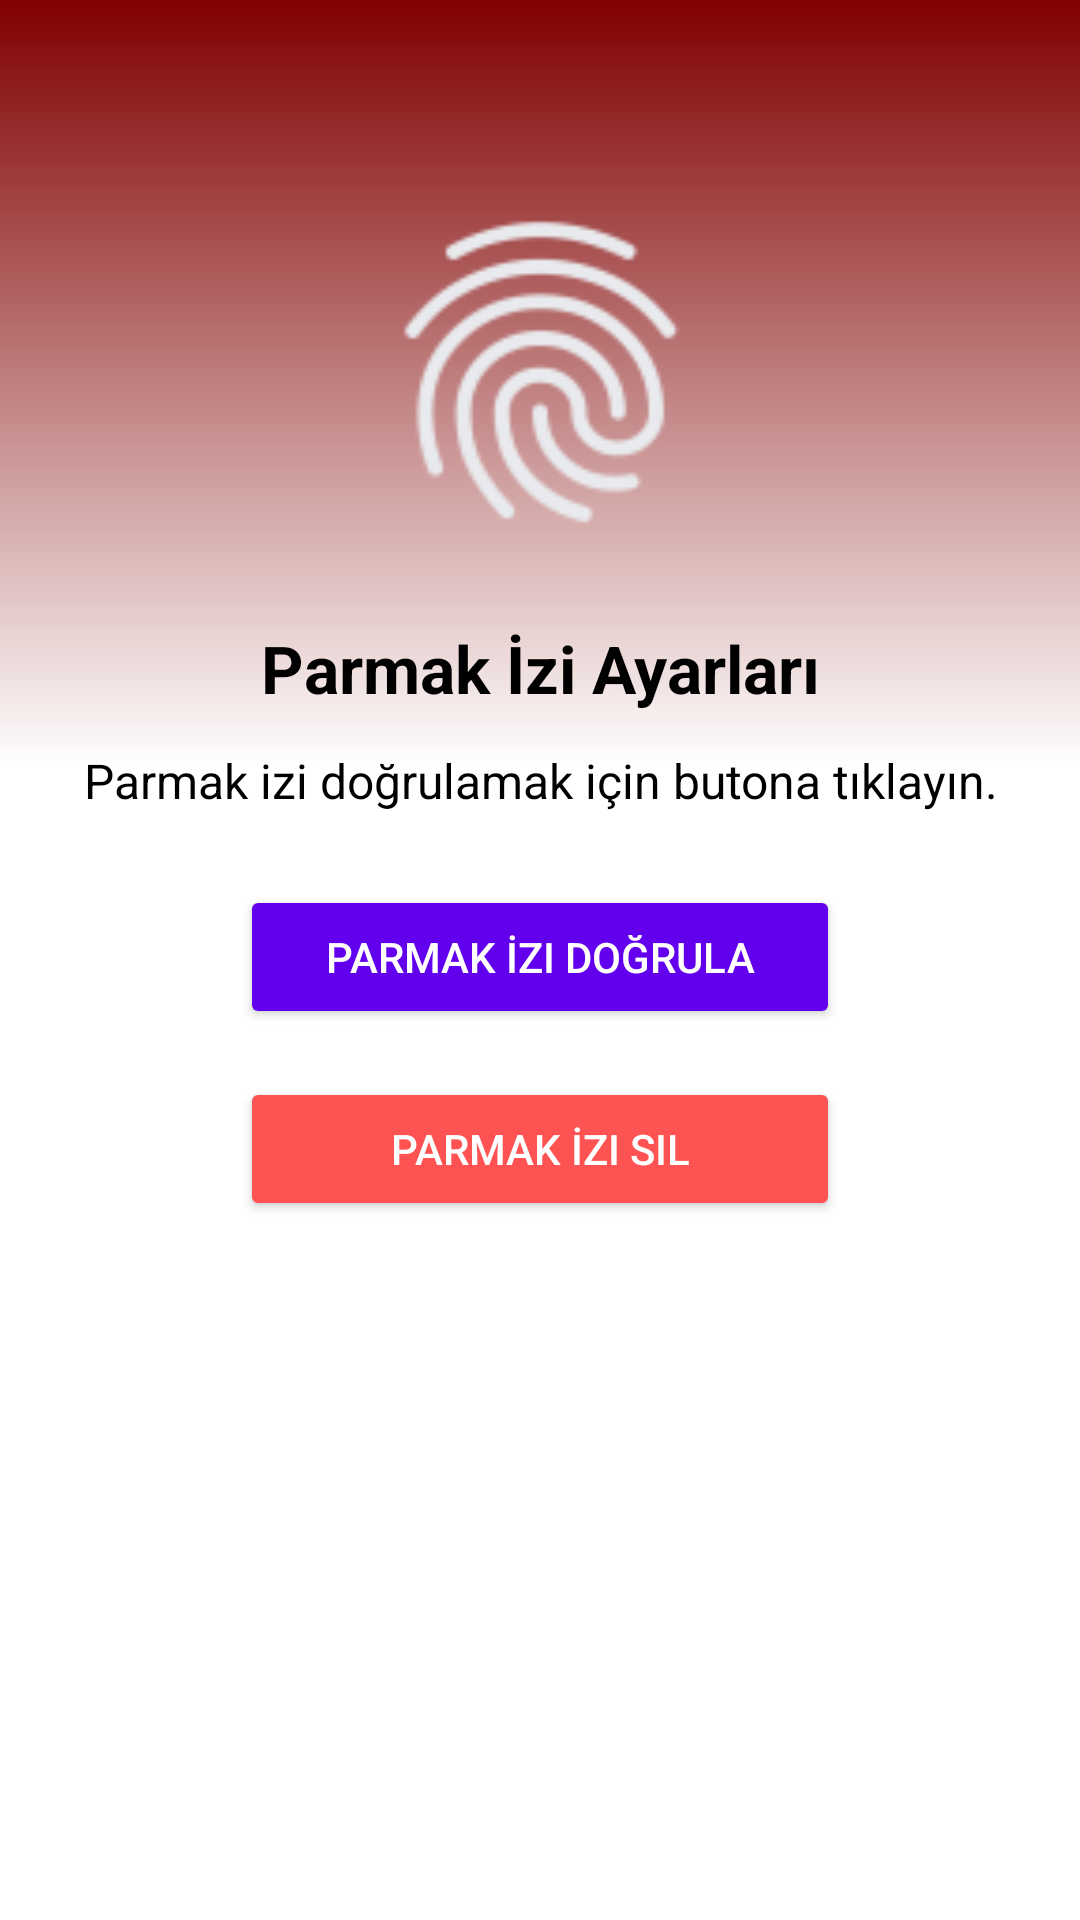

Icons on this 1080 x 1920 Android screen, each with the point to tap as (x=x, y=y):
Parmak izi simgesi: (x=540, y=372)
